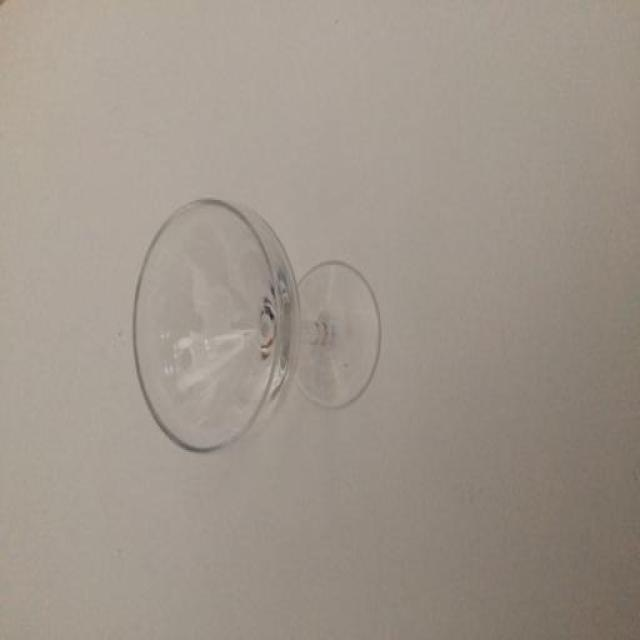Glass: (108, 145, 390, 490)
